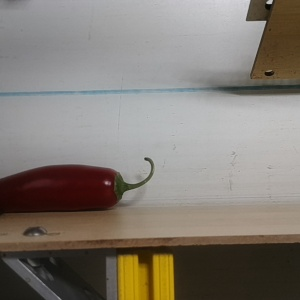Cut Point: (98, 167, 128, 210)
